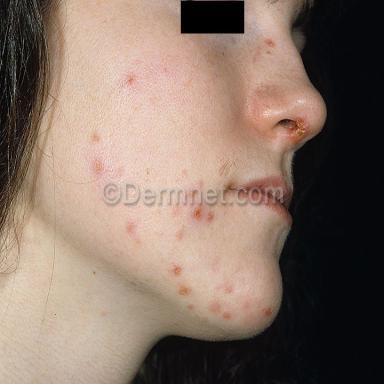Impetigo: (289, 119, 308, 145), (92, 159, 103, 175), (179, 285, 191, 295), (172, 265, 181, 276), (194, 207, 202, 219), (207, 212, 214, 220), (264, 308, 271, 316), (223, 313, 230, 319)
